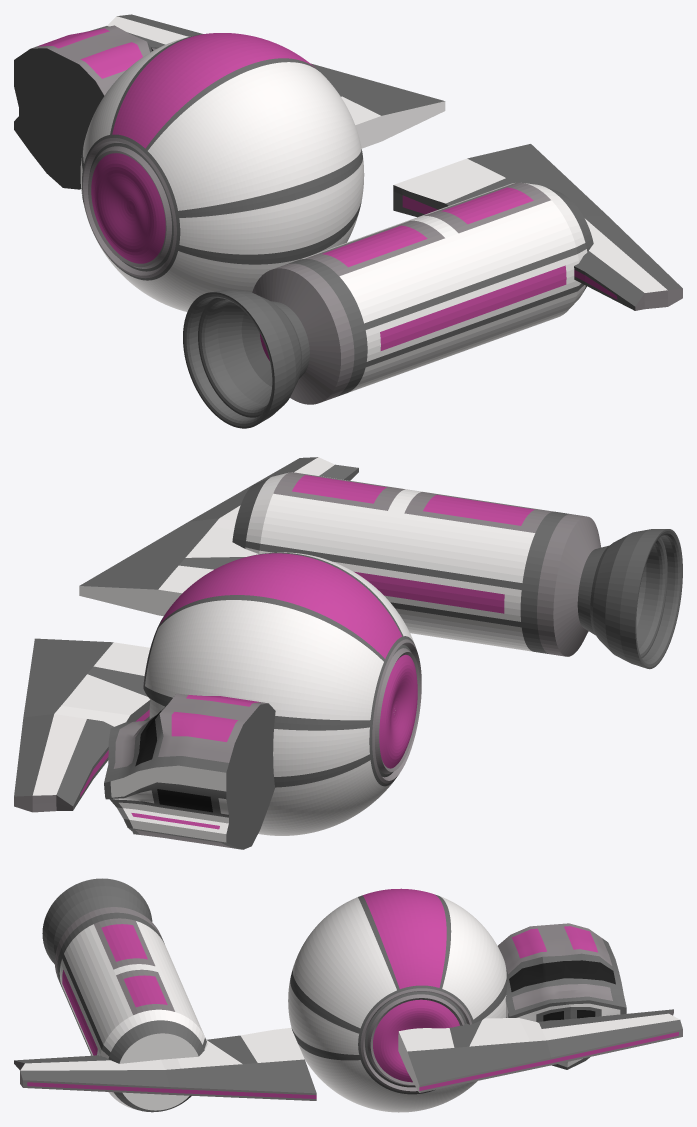
File: spaceship2.fbx
The picture shows the model from 3 angles, top to bottom: view 1: azimuth 30°, elevation 25°; view 2: azimuth 150°, elevation 25°; view 3: azimuth 270°, elevation 25°; orthographic projection. The views are drawn at different scales.
Parts seen in each view (by area): view 1: centre, réacteur, wing right, cockpit, wing left; view 2: réacteur, centre, cockpit, wing left, wing right; view 3: centre, réacteur, wing left, wing right, cockpit.
Boxes of the visible parts, box(x1,y1,x2,y2) form: centre: box(80, 33, 364, 311); réacteur: box(183, 182, 593, 428); wing right: box(393, 144, 682, 310); cockpit: box(14, 25, 158, 189); wing left: box(90, 14, 445, 148); réacteur: box(232, 472, 682, 669); centre: box(143, 552, 421, 835); cockpit: box(104, 693, 275, 849); wing left: box(14, 638, 150, 812); wing right: box(79, 457, 358, 616); centre: box(288, 888, 506, 1112); réacteur: box(42, 878, 207, 1112); wing left: box(398, 1009, 682, 1092); wing right: box(14, 1028, 316, 1100); cockpit: box(498, 923, 626, 1069).
Bounding box in the file's own units: 552 × 300 × 897.
